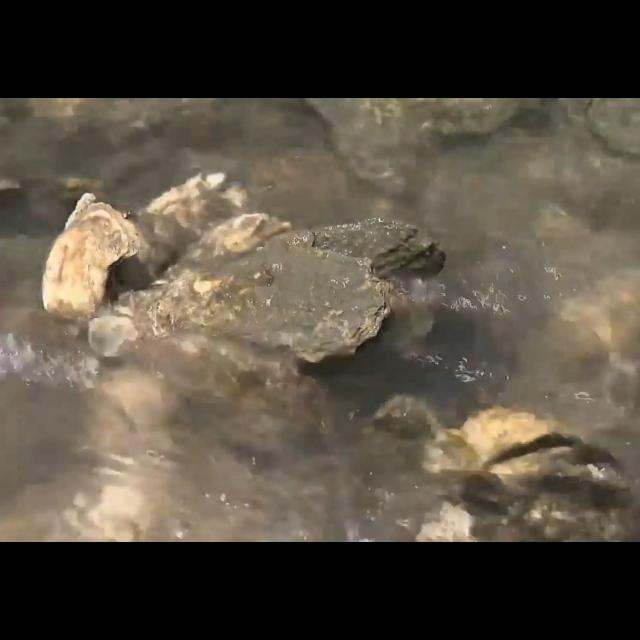Oyster-Closed: (152, 241, 394, 363), (128, 172, 248, 278), (41, 192, 141, 316), (301, 216, 447, 300), (152, 212, 296, 286)
Oyster-Open: (423, 409, 615, 487)
